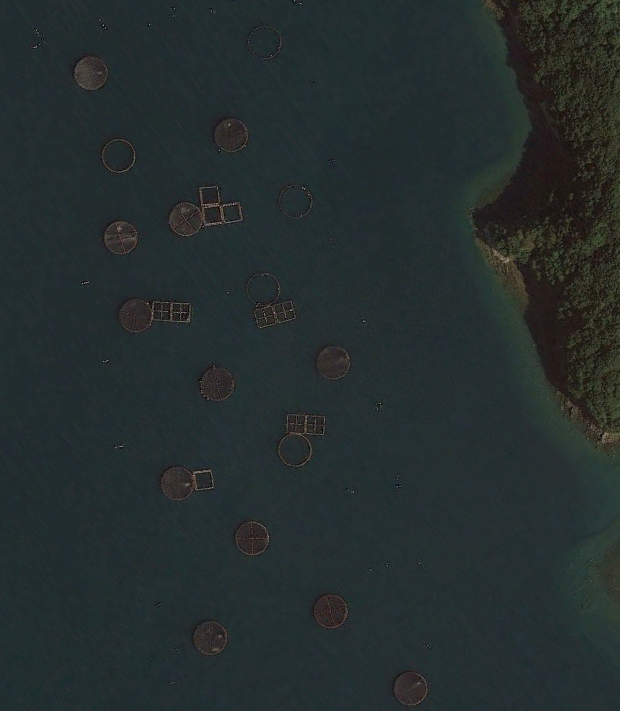circle: (208, 110, 255, 158), (272, 178, 320, 224), (243, 16, 288, 64), (270, 429, 318, 473), (387, 666, 435, 710), (154, 461, 204, 503), (309, 587, 355, 632), (185, 615, 234, 657), (98, 214, 141, 261), (98, 132, 141, 178), (69, 52, 113, 96), (194, 362, 240, 404), (162, 198, 207, 240), (315, 338, 356, 384), (230, 515, 273, 556), (114, 295, 158, 335), (243, 271, 284, 312)
square: (194, 179, 225, 209), (251, 302, 283, 329), (166, 298, 196, 326), (198, 202, 226, 231), (191, 465, 215, 498), (281, 407, 309, 435), (218, 198, 245, 225), (150, 295, 176, 323), (301, 412, 330, 437), (270, 300, 301, 322)
